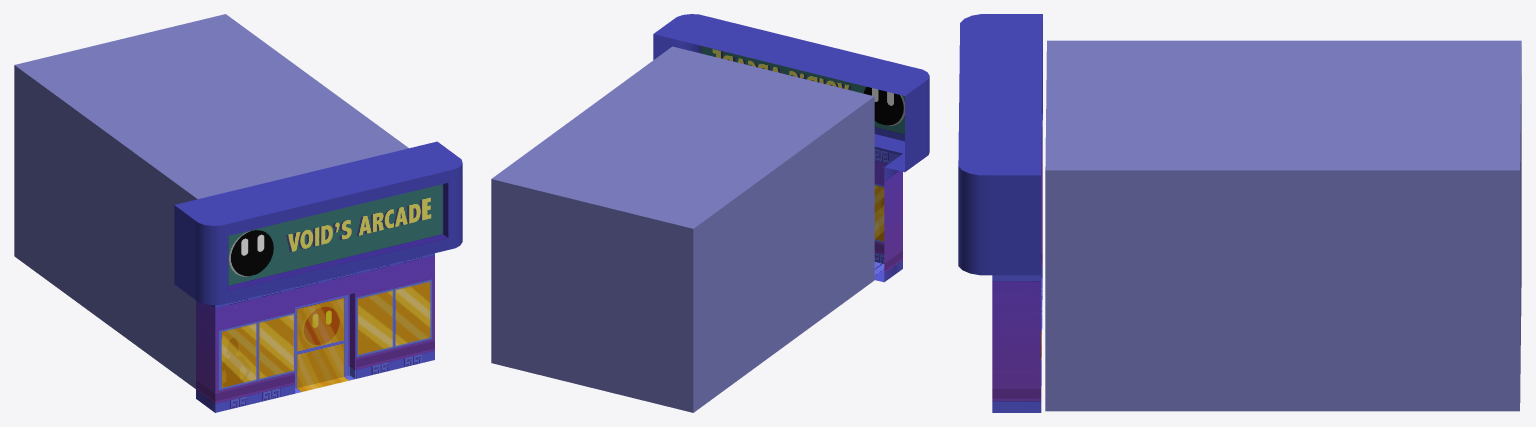
The model's file is bldg4.fbx.
3 views of the same model, side by side, from view 1: azimuth 30°, elevation 25°; view 2: azimuth 150°, elevation 25°; view 3: azimuth 270°, elevation 25° (orthographic). The views are drawn at different scales.
Visible parts, largest first — view 1: Bldg_Combo_3:Inside_Building2, Bldg_Combo_3:Building:pCube1; view 2: Bldg_Combo_3:Inside_Building2, Bldg_Combo_3:Building:pCube1; view 3: Bldg_Combo_3:Inside_Building2, Bldg_Combo_3:Building:pCube1.
Boxes of the visible parts, x1,y1,x2,y2 form: Bldg_Combo_3:Inside_Building2: (14,14,408,388); Bldg_Combo_3:Building:pCube1: (174,141,462,412); Bldg_Combo_3:Inside_Building2: (491,46,874,412); Bldg_Combo_3:Building:pCube1: (653,14,929,282); Bldg_Combo_3:Inside_Building2: (1045,40,1521,411); Bldg_Combo_3:Building:pCube1: (958,14,1042,412).
Bounding box in the file's own units: 6.57 × 4.76 × 9.68.
Materials: 2 (1 with a texture image).
